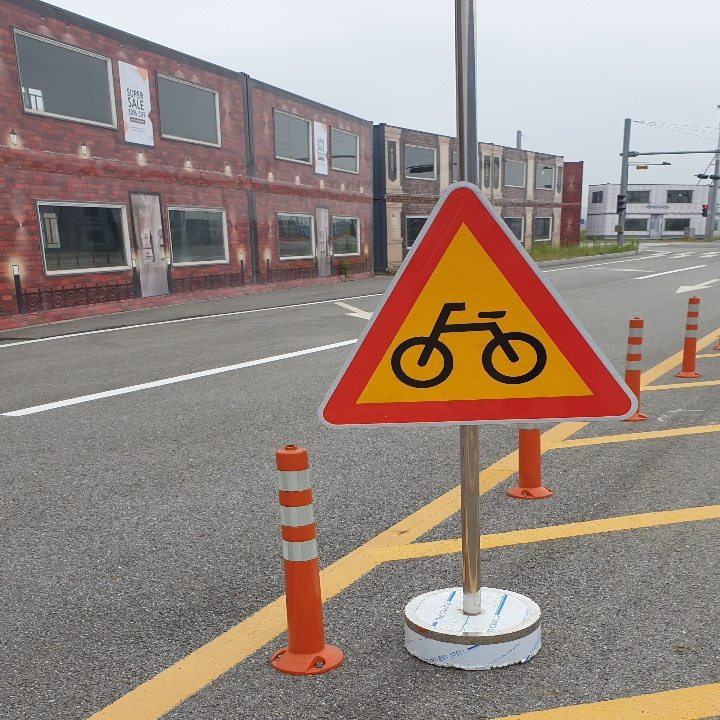bicycle: (315, 186, 641, 415)
